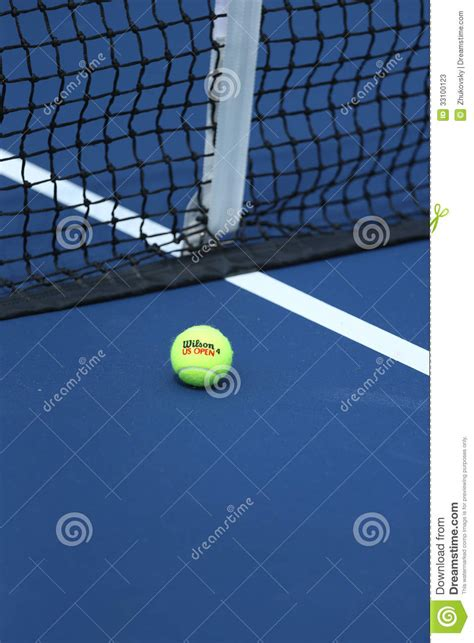tennis_ball: (170, 323, 233, 387)
